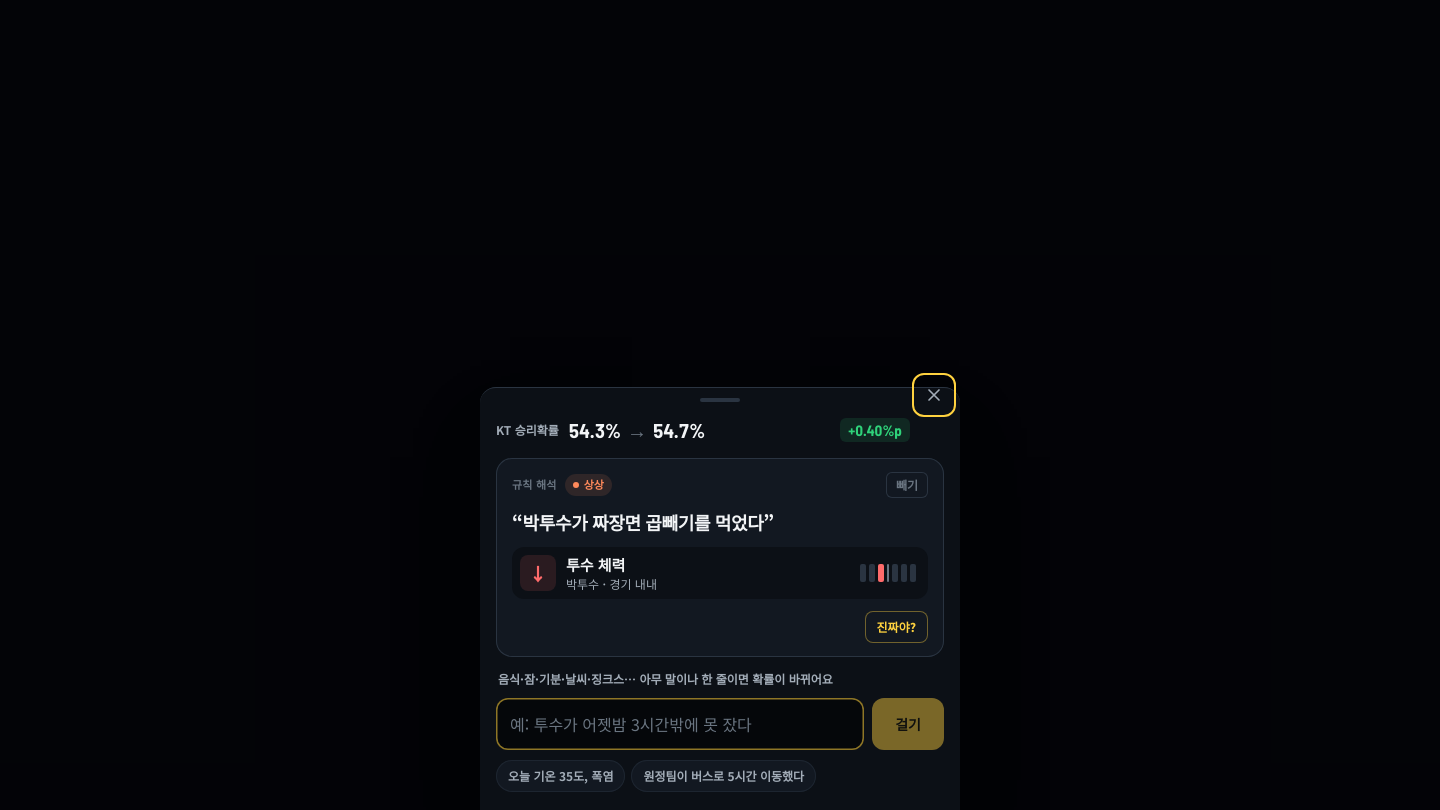
Test: TmiSheet › 예시를 누르면 입력칸을 채운다
Click the button "원정팀이 버스로 5시간 이동했다": [724, 776] box [631,760,816,792]
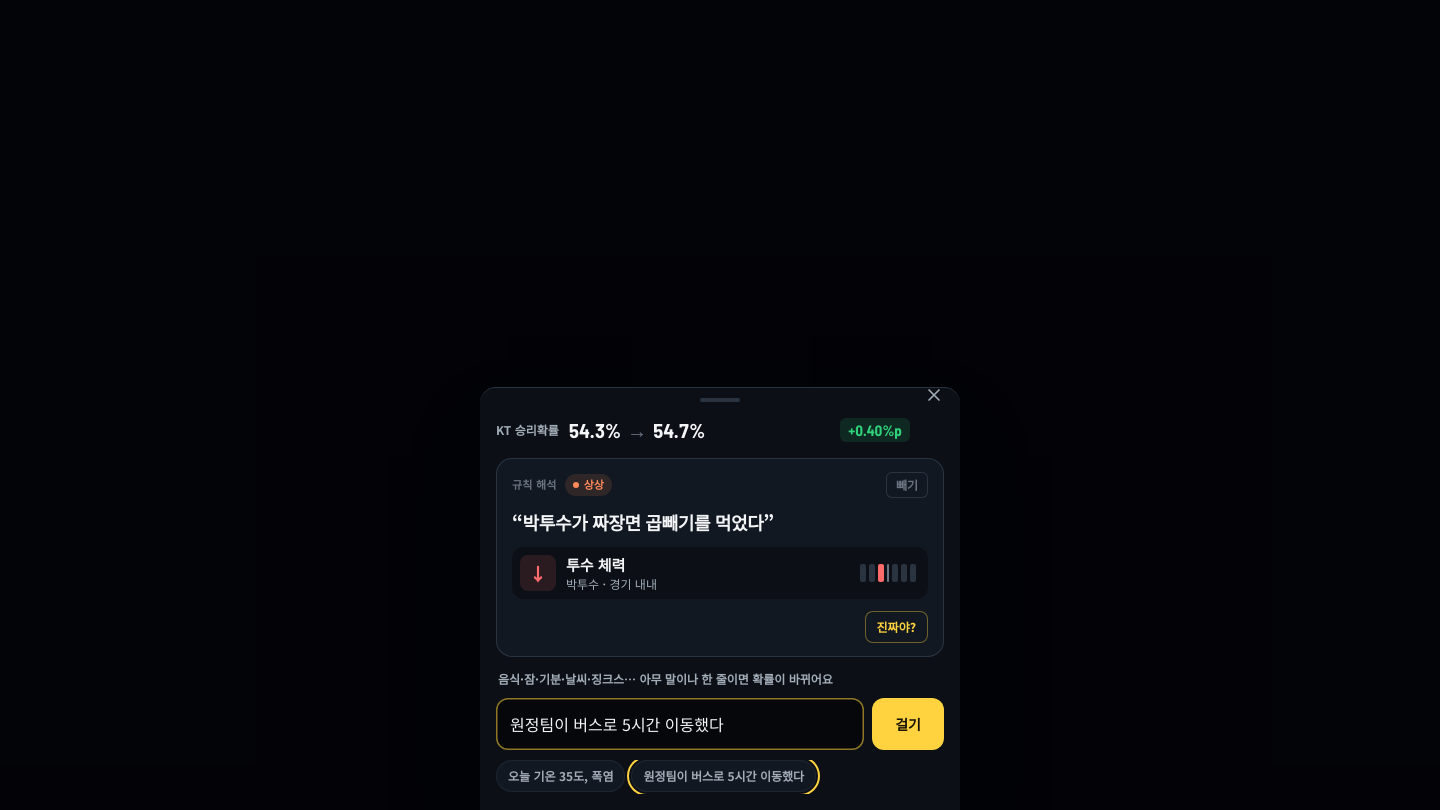
expect the field named "TMI 한 줄" holds "원정팀이 버스로 5시간 이동했다": met, box [496,698,864,750]
